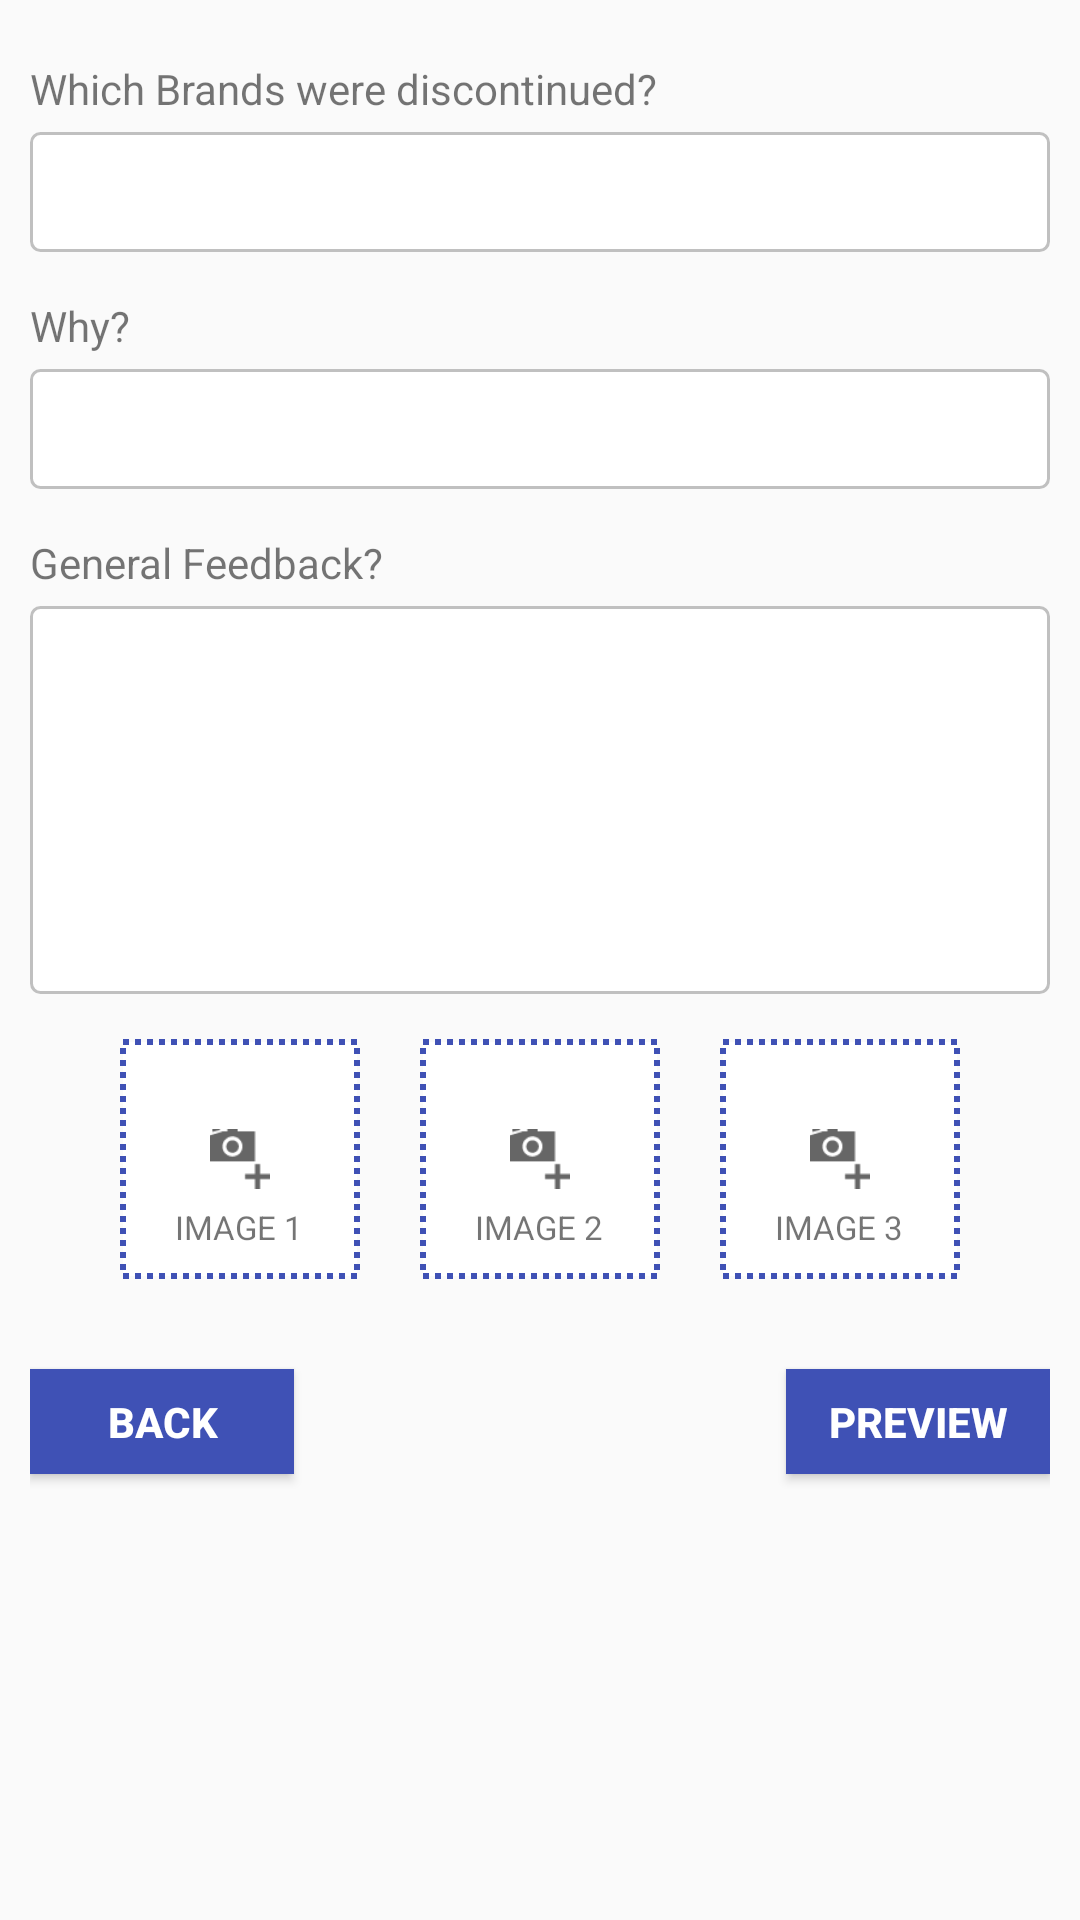

Named icons in this screenshot (1080 x 1920) and their centers, (x=x, y=y):
add camera: (x=240, y=1159), (x=540, y=1159), (x=840, y=1159)
